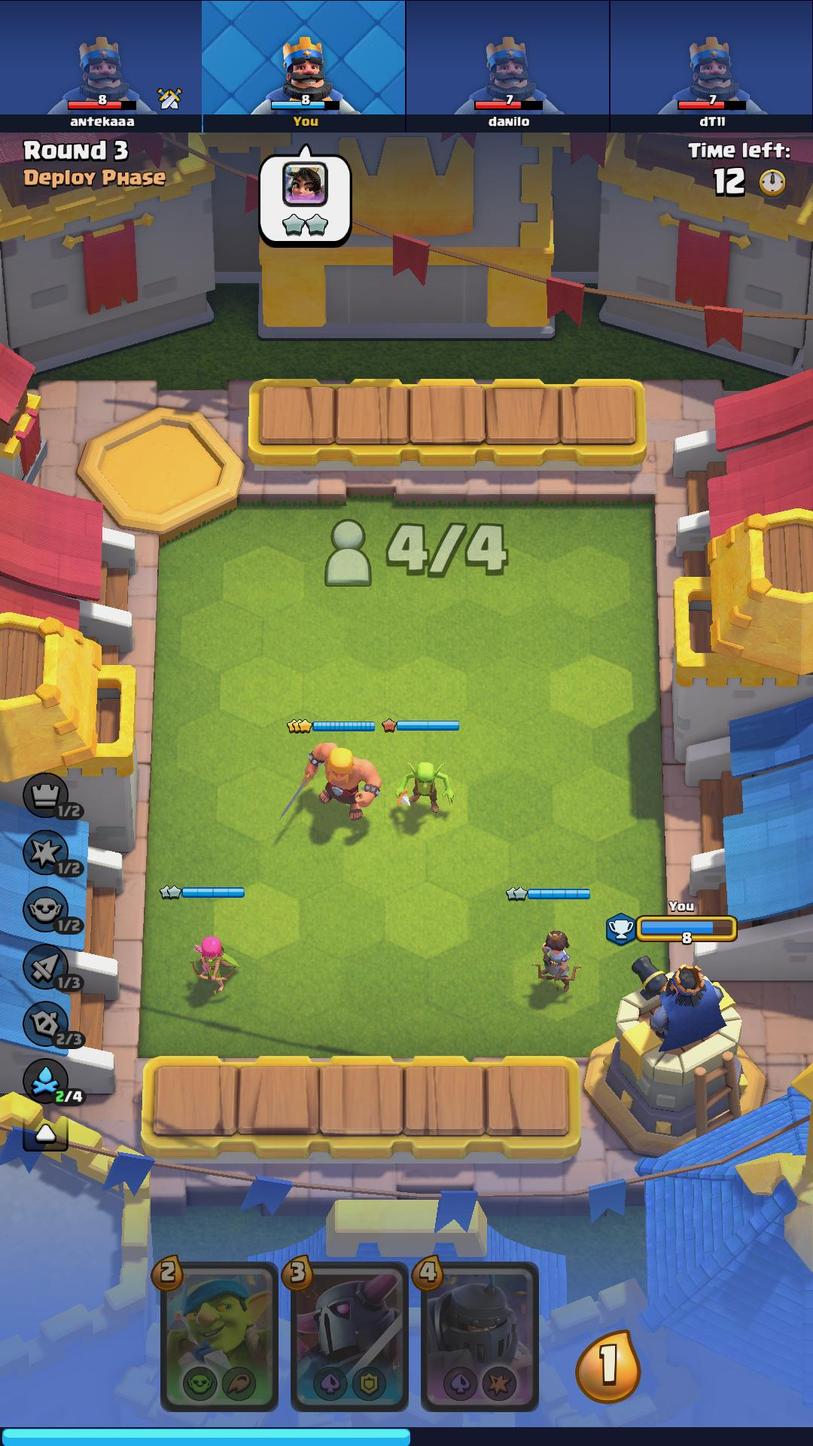archer: (193, 927, 234, 995)
barbarian: (299, 738, 382, 824)
goblin: (396, 756, 458, 819)
hand-mega: (418, 1263, 536, 1408)
hand-pekka: (291, 1267, 409, 1408)
hand-spear: (160, 1262, 273, 1406)
princess: (531, 923, 583, 992)
